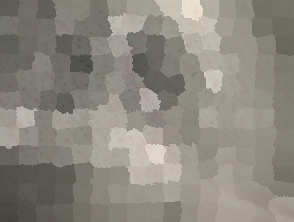vitiligo: (0, 0, 283, 196)
